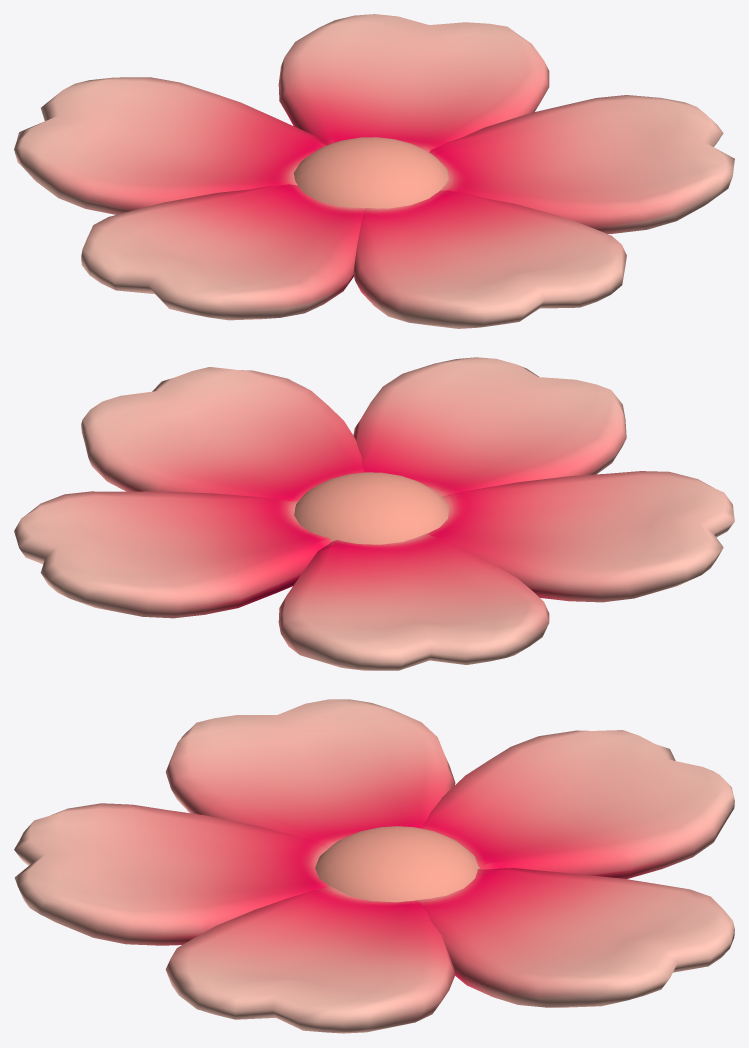
The model's file is hoa5.fbx.
3 views of the same model, one above another, from view 1: azimuth 30°, elevation 25°; view 2: azimuth 150°, elevation 25°; view 3: azimuth 270°, elevation 25° (orthographic). The views are drawn at different scales.
Visible parts, largest first — view 1: polySurface41, polySurface78, polySurface79, polySurface42, polySurface39, polySurface38; view 2: polySurface42, polySurface79, polySurface41, polySurface39, polySurface78, polySurface38; view 3: polySurface78, polySurface42, polySurface39, polySurface41, polySurface79, polySurface38.
Boxes of the visible parts, x1,y1,x2,y2 form: polySurface41: (429,95,734,233); polySurface78: (14,77,326,214); polySurface79: (81,184,364,320); polySurface42: (278,14,549,152); polySurface39: (353,190,626,328); polySurface38: (294,137,448,208); polySurface42: (14,491,331,618); polySurface79: (428,471,734,602); polySurface41: (81,367,363,501); polySurface39: (353,357,626,496); polySurface78: (278,533,549,670); polySurface38: (294,472,448,544); polySurface78: (421,730,734,878); polySurface42: (416,868,734,1007); polySurface39: (14,803,329,945); polySurface41: (165,886,455,1033); polySurface79: (165,699,455,846); polySurface38: (315,826,479,902).
Bounding box in the file's own units: 78.23 × 10.8 × 74.95.
1 material, 1 textured.
